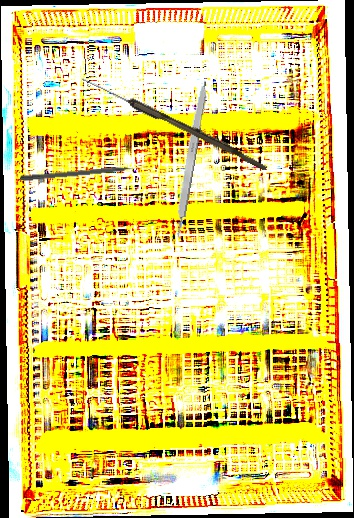Pusher: (19, 164, 149, 183)
Scalpel Handle: (170, 78, 210, 241)
Surgical Spoon: (79, 75, 270, 171)
